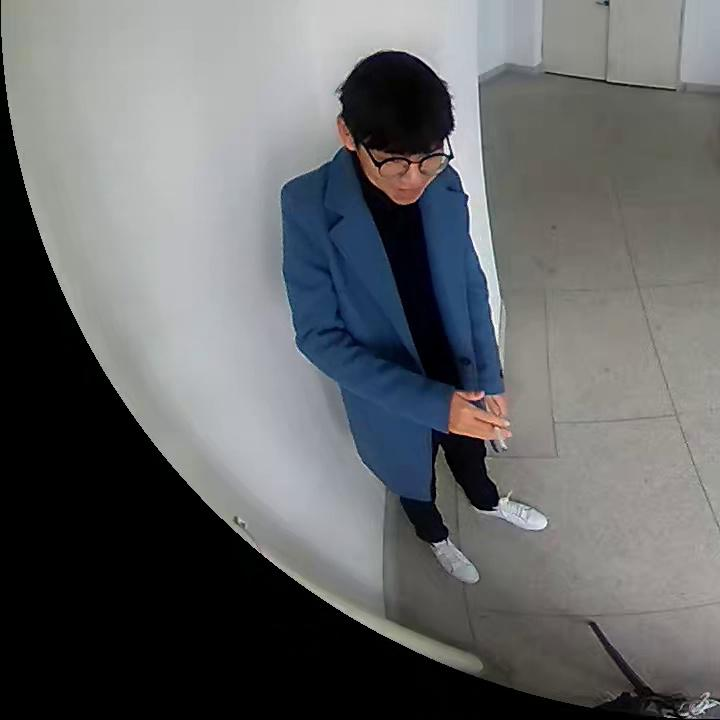handsmoke: (446, 384, 514, 449)
mouthwithoutsmoke: (336, 51, 456, 206)
